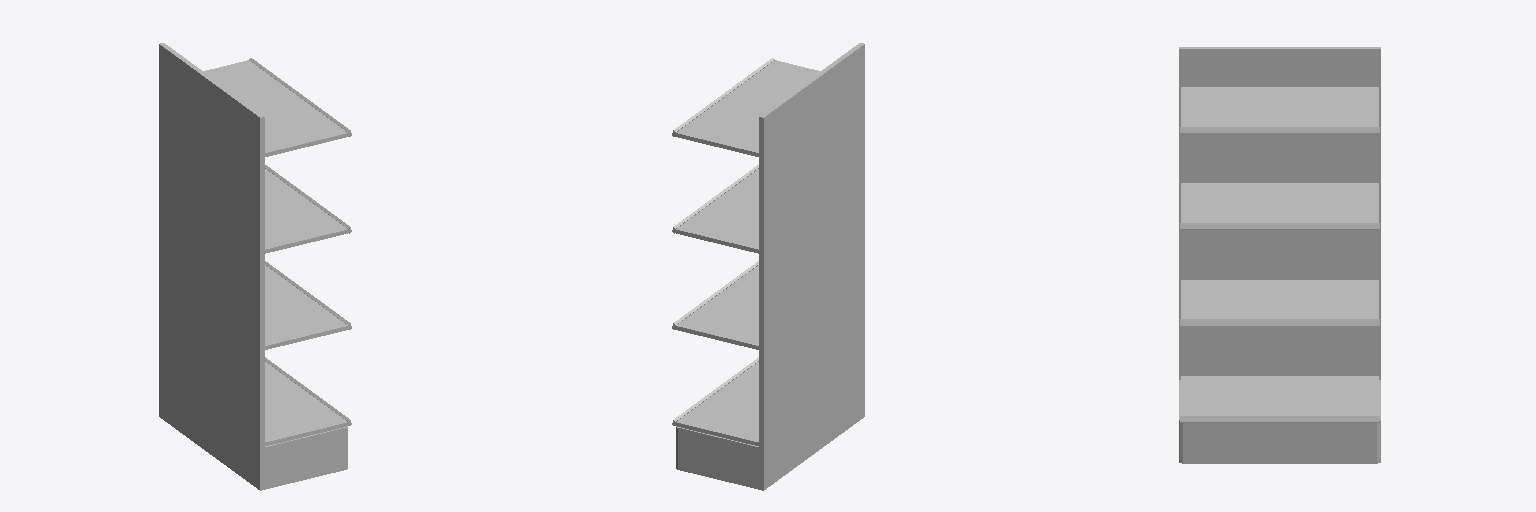
Rendered from Shelf_FlatCap_4.obj.
3 renders of one model, left to right at view 1: azimuth 30°, elevation 25°; view 2: azimuth 150°, elevation 25°; view 3: azimuth 270°, elevation 25°, orthographic.
Parts seen in each view (by area): view 1: Shelf_FlatCap_4_Cube.025; view 2: Shelf_FlatCap_4_Cube.025; view 3: Shelf_FlatCap_4_Cube.025.
Part boxes in pixels (bbox=[...]): Shelf_FlatCap_4_Cube.025: bbox=[159, 43, 351, 490]; Shelf_FlatCap_4_Cube.025: bbox=[672, 43, 864, 490]; Shelf_FlatCap_4_Cube.025: bbox=[1179, 47, 1380, 463].
Size of the model in its own units: 1.04 by 4 by 1.97.